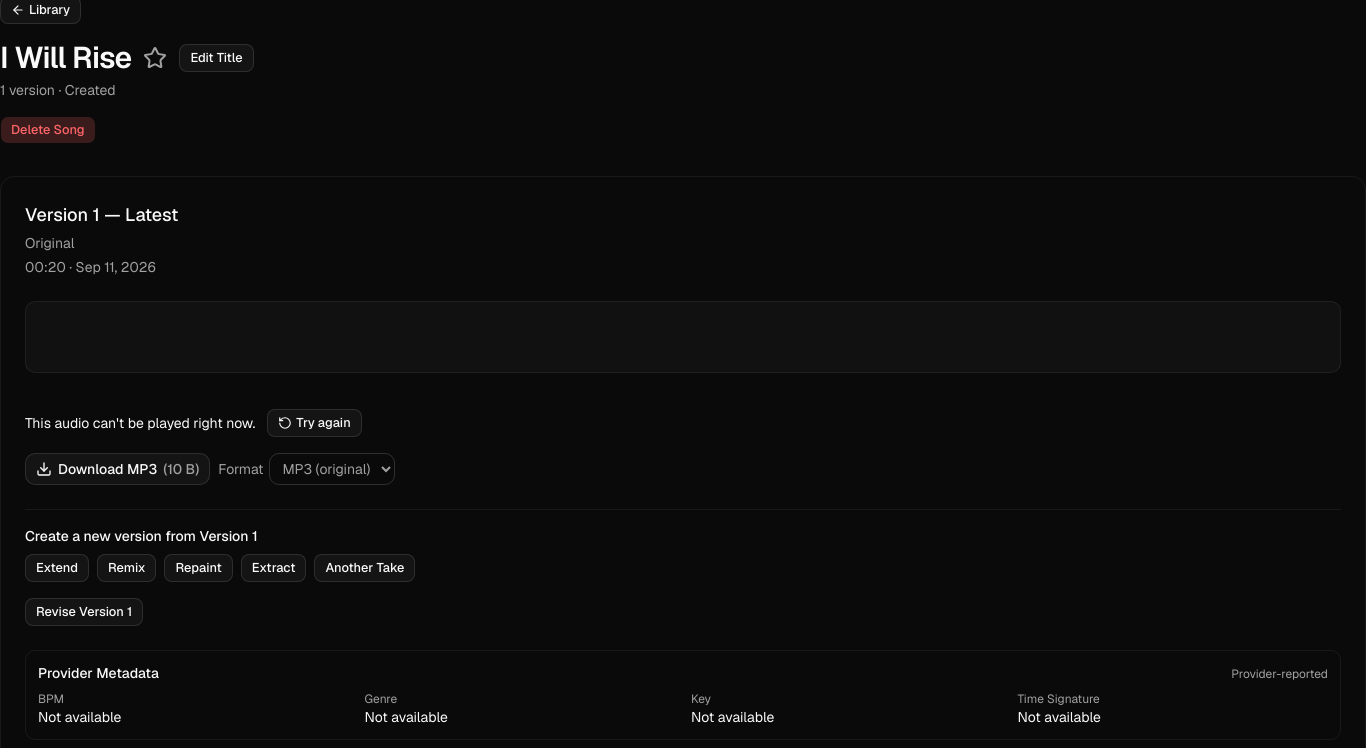
Test: Version actions › Remix requires a description and sends the strength preset
Click the button "Remix": (127, 568) [97,554,156,582]
(page scrolled)
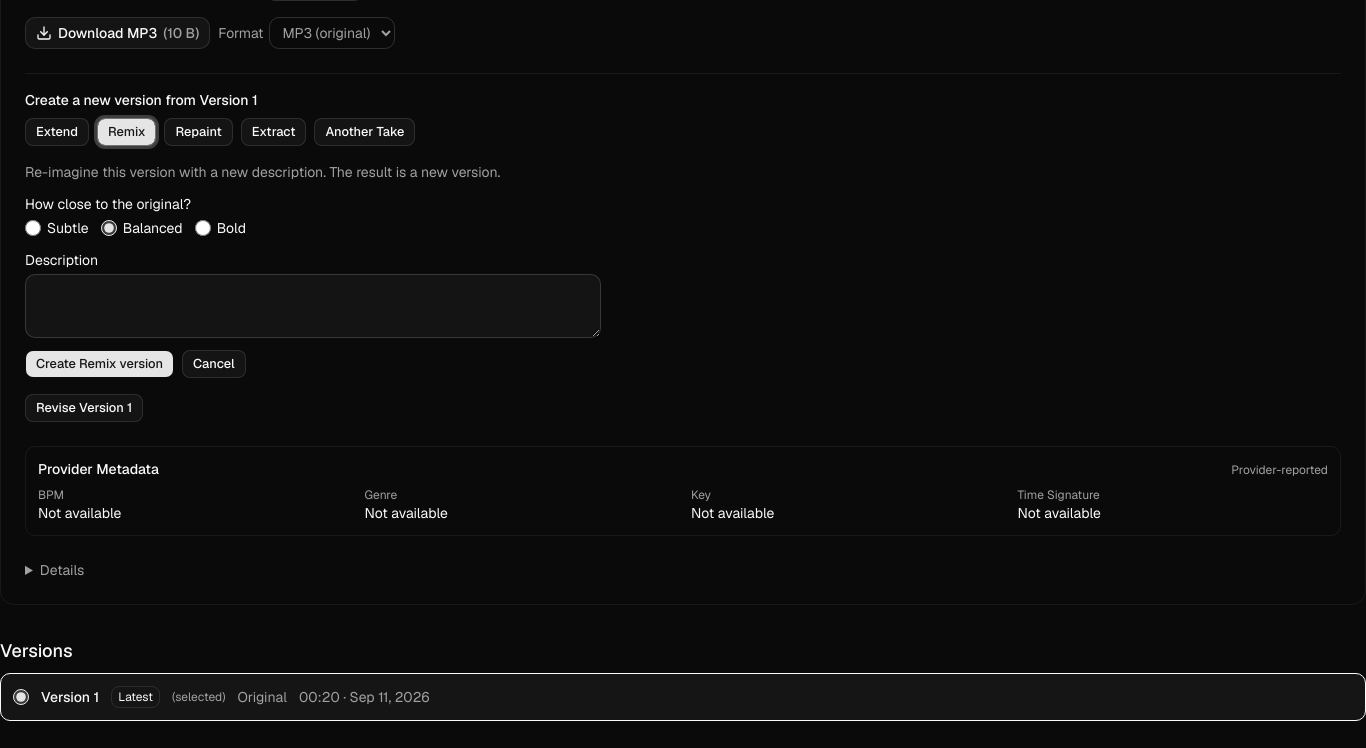
Click the button "Create Remix version": (100, 364) [25,350,174,378]
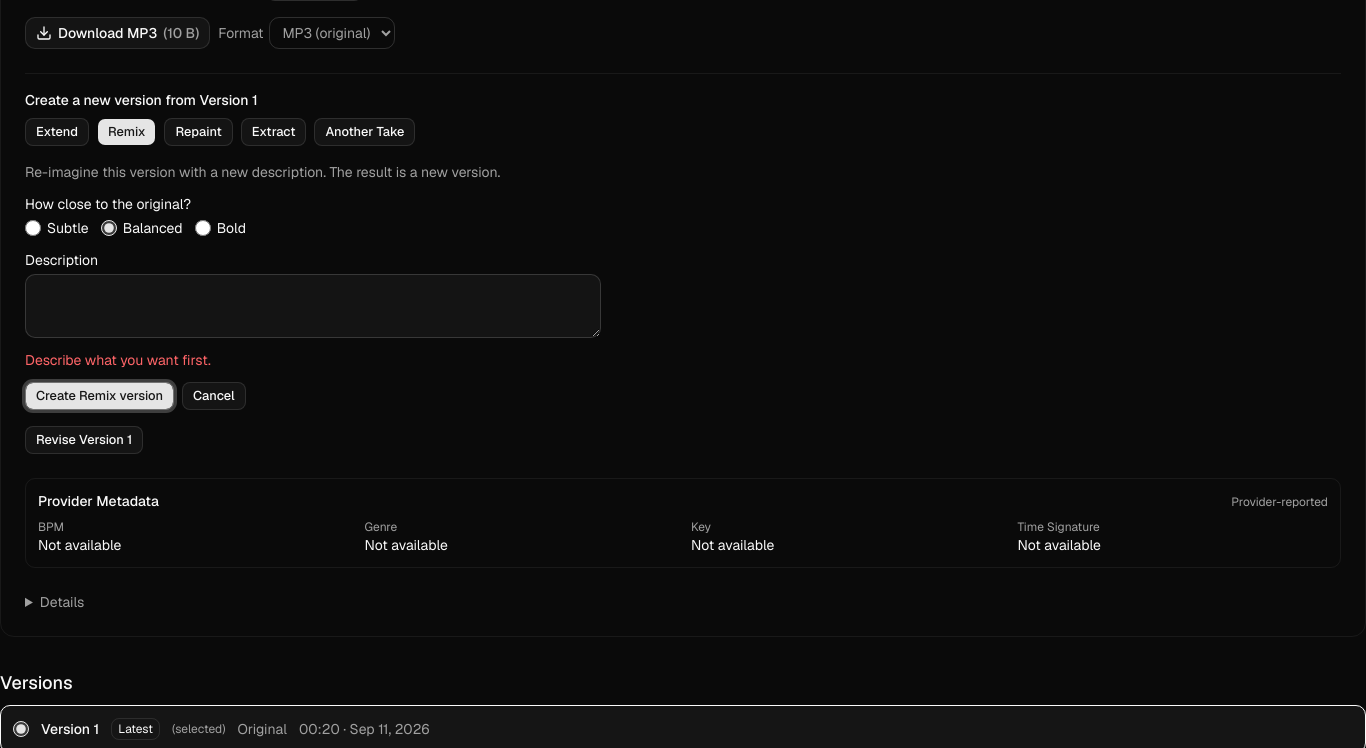
expect the message with test id "op-error" shows "Describe what you want": met, box [25,351,211,369]
Click the radio button labelled "Bold": (203, 228) [195,220,211,236]
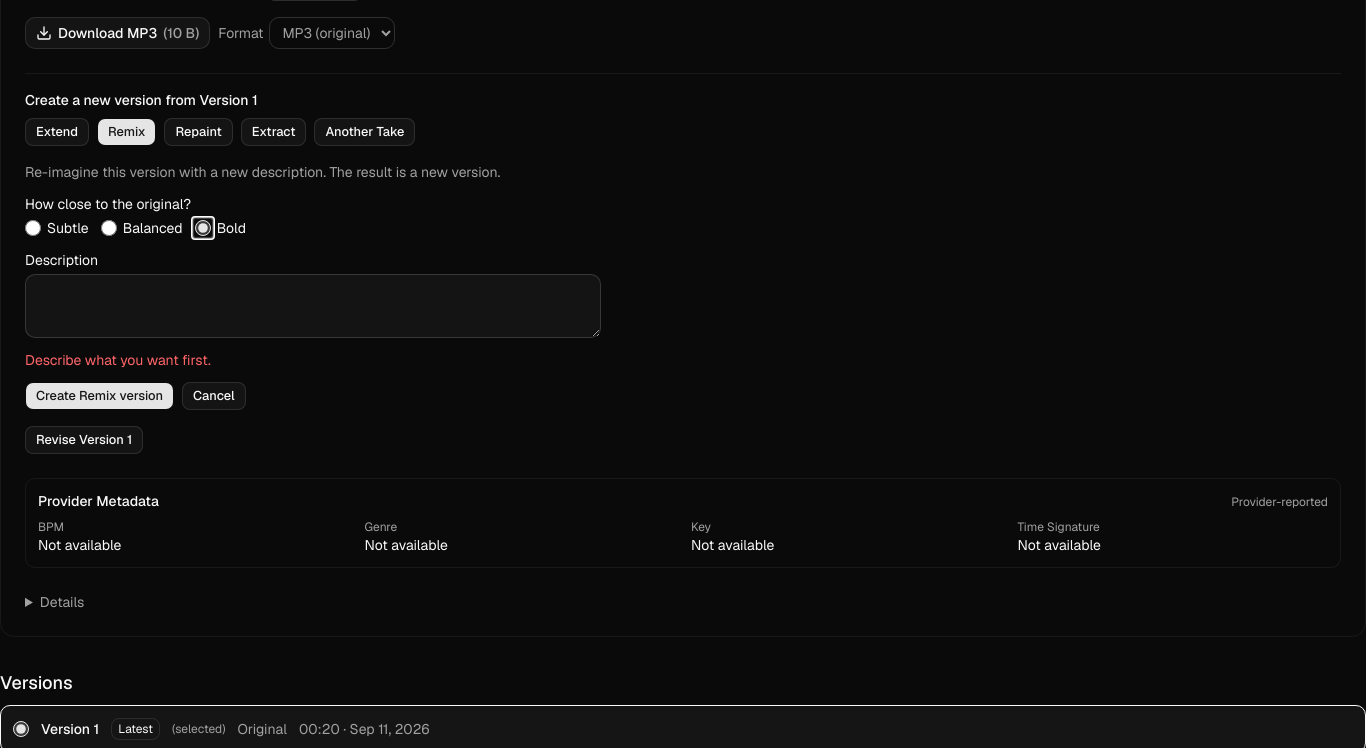
In the text box labelled "Description": (313, 306) [25,274,601,338], type "  darker  "
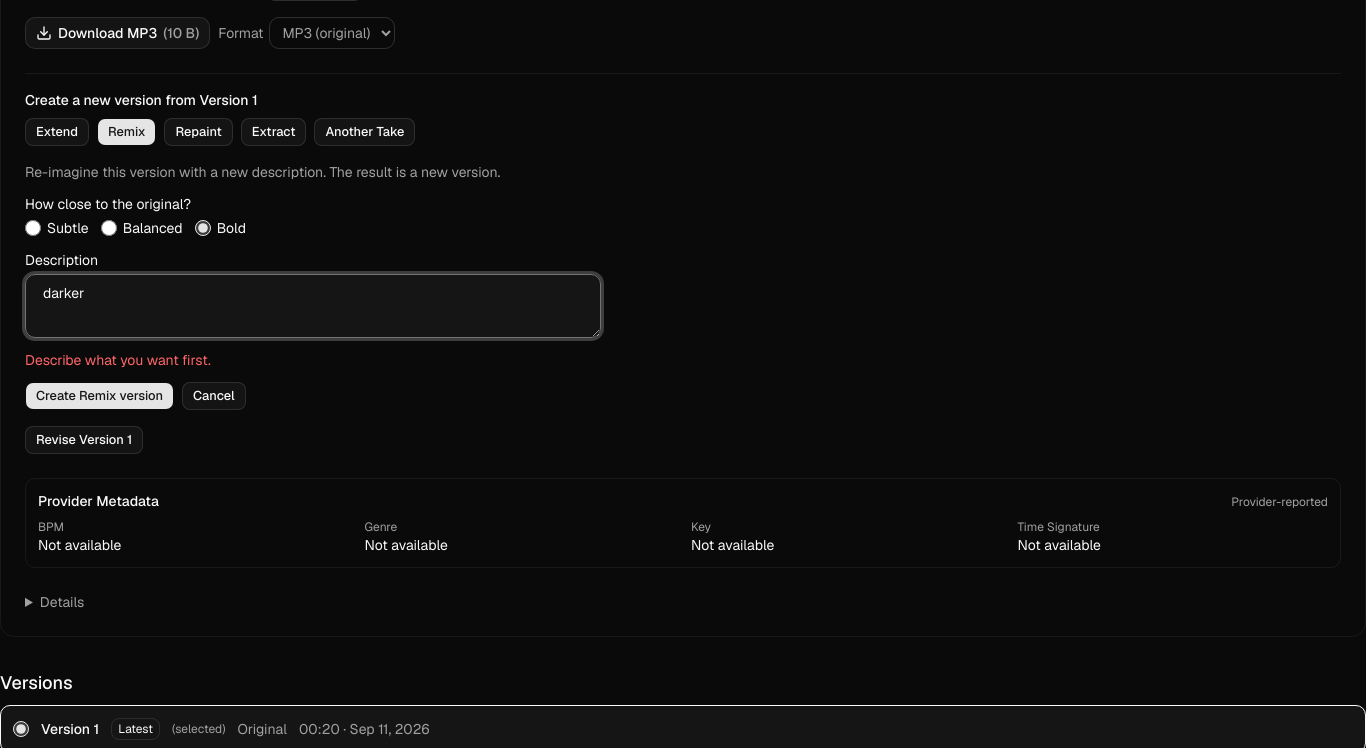
Click the button "Create Remix version": (100, 396) [25,382,174,410]
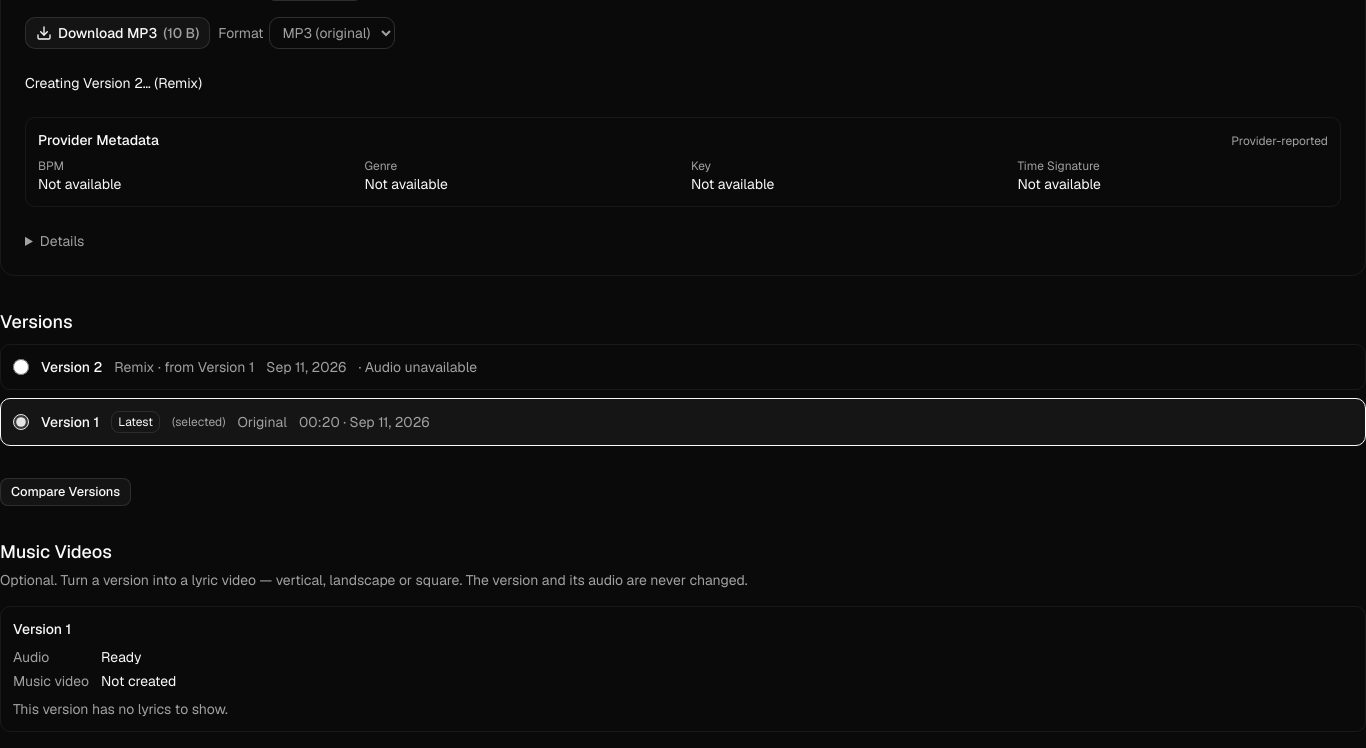
expect the message "Creating Version 2… (Remix)" is shown: met, box [25,74,202,92]
